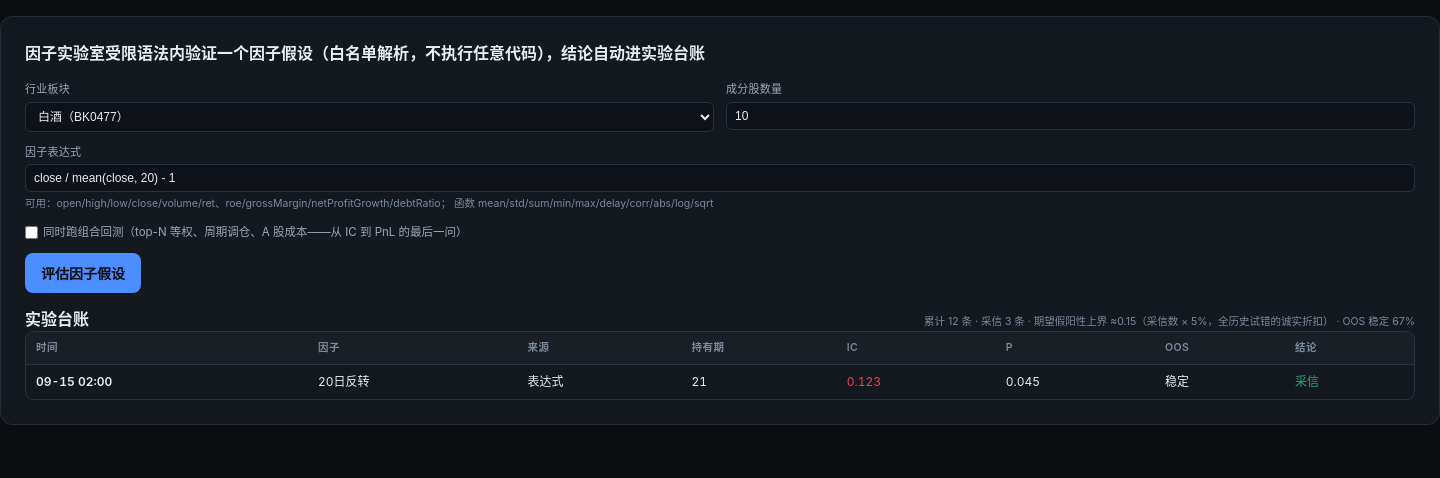
Test: FactorLabPanel —— 首次加载与可提交性 › 默认参数提交：请求带板块/成分股数/持有期与填写的表达式；未勾选组合回测时不带 portfolio
Expected: the button "评估因子假设" is enabled, x1=25 y1=253 x2=141 y2=293
Type "volume / mean(volume, 5)" into the field with placeholder "close / mean(close, 20) - 1" at (720, 178), box x1=25 y1=164 x2=1415 y2=192
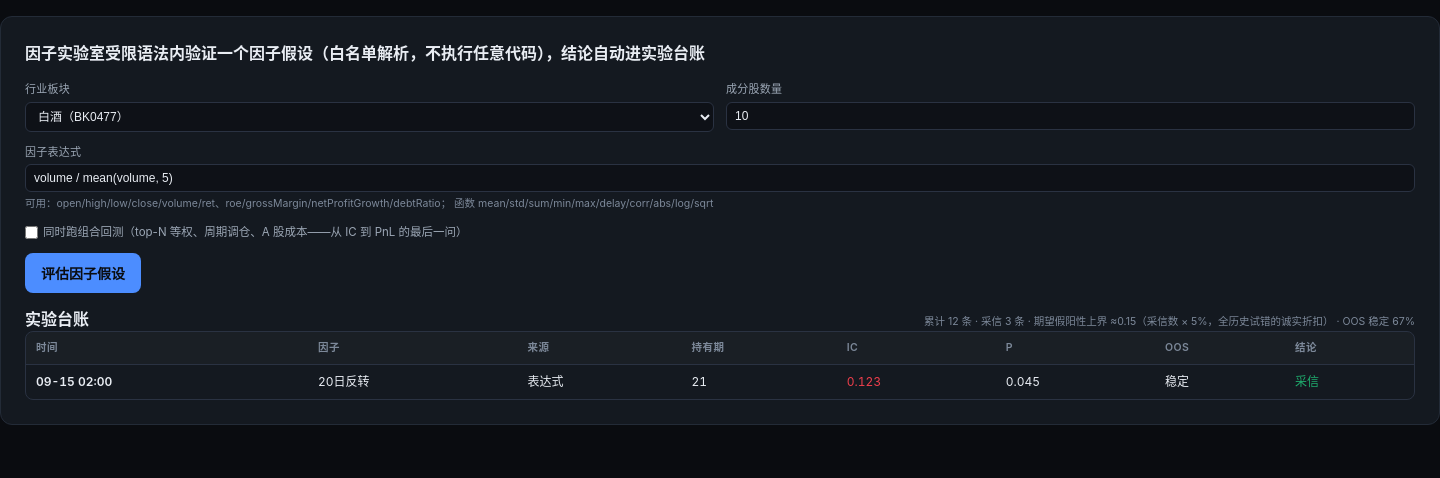
Replace the text in the number field with "20" at (1070, 116), box x1=726 y1=102 x2=1415 y2=130
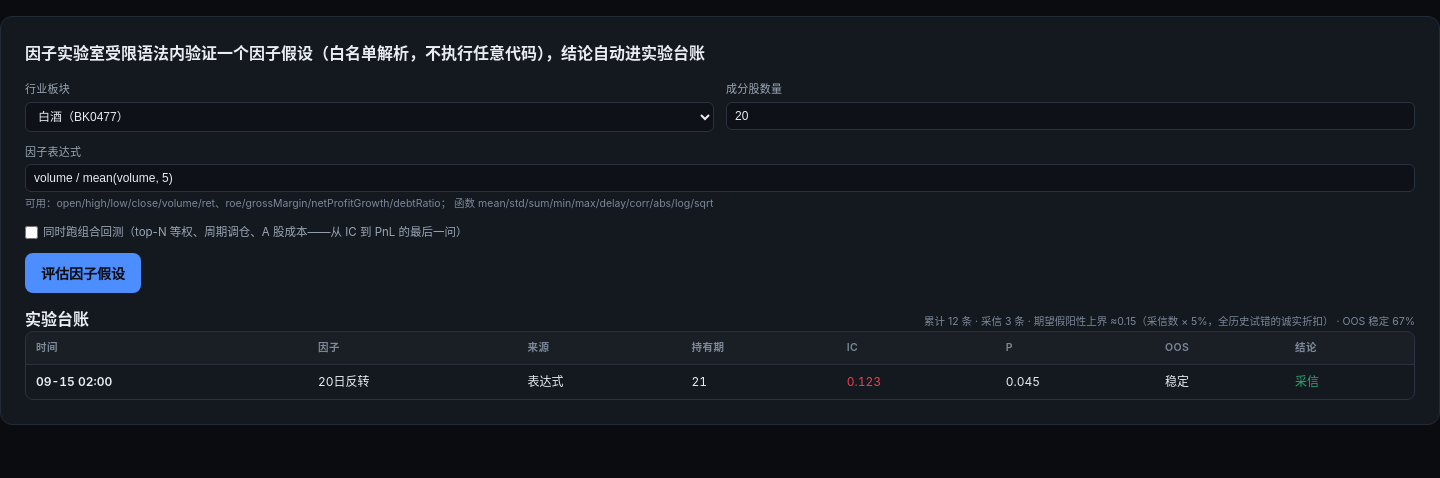
Click the button "评估因子假设" at (83, 273), box x1=25 y1=253 x2=141 y2=293
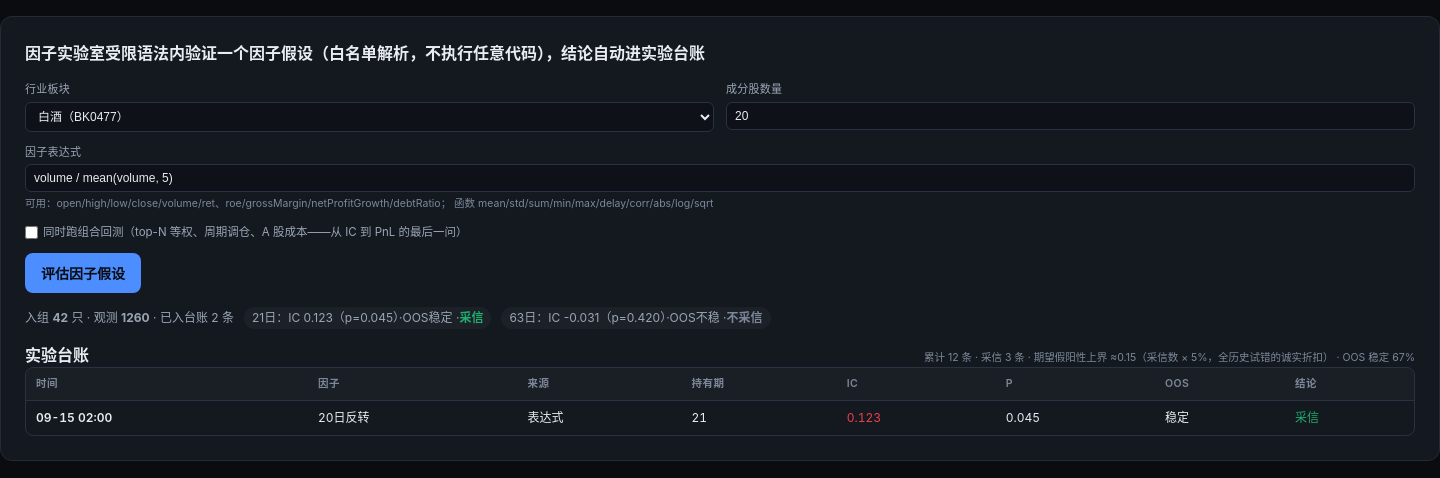
Now the text "已入台账" is shown, box x1=150 y1=310 x2=211 y2=325
